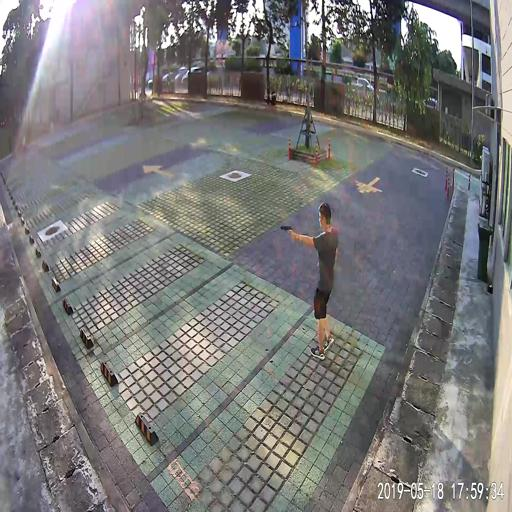pistol: (279, 224, 293, 233)
